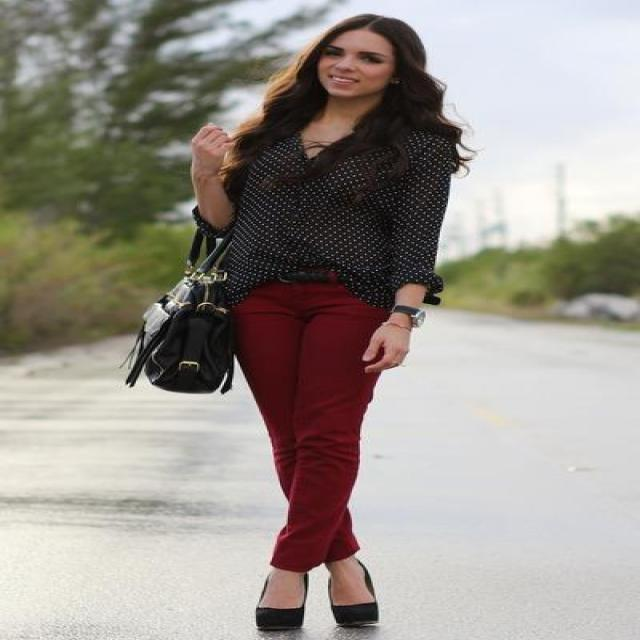bag: (120, 250, 248, 392)
pants: (230, 280, 390, 575)
shirt: (190, 129, 470, 308)
shoe: (256, 602, 378, 636)
